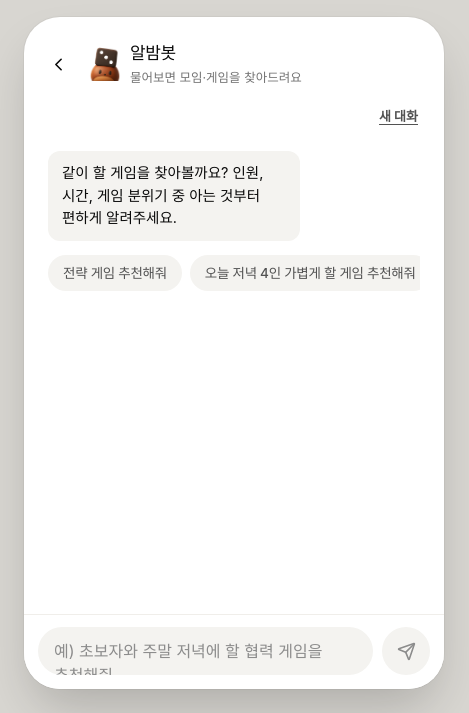
Test: AI 모임 도우미 화면 › Enter는 메시지를 전송하고 사용자 메시지를 채팅 로그에 표시한다
Type "공포 테마 추천해줘" into the text box named "알밤봇에게 묻기" at (206, 651), box x1=38 y1=627 x2=373 y2=675
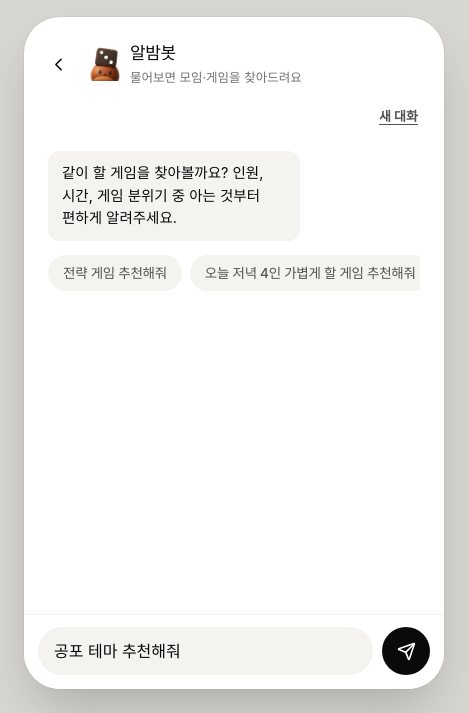
Press Enter in the text box named "알밤봇에게 묻기", box x1=38 y1=627 x2=373 y2=675
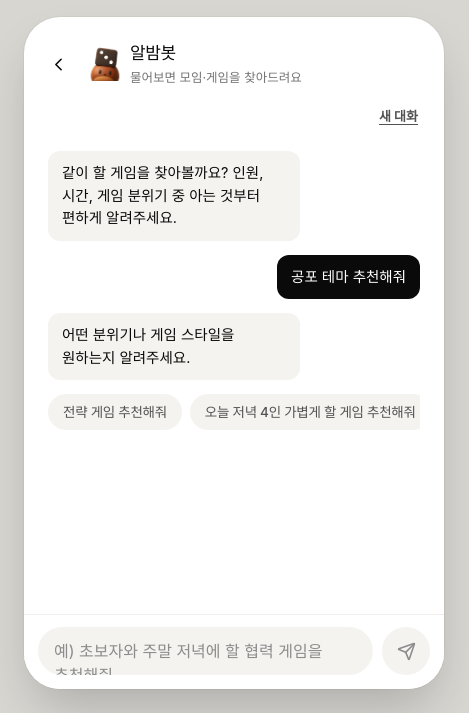
Now the text "공포 테마 추천해줘" is shown, box x1=277 y1=255 x2=420 y2=299
